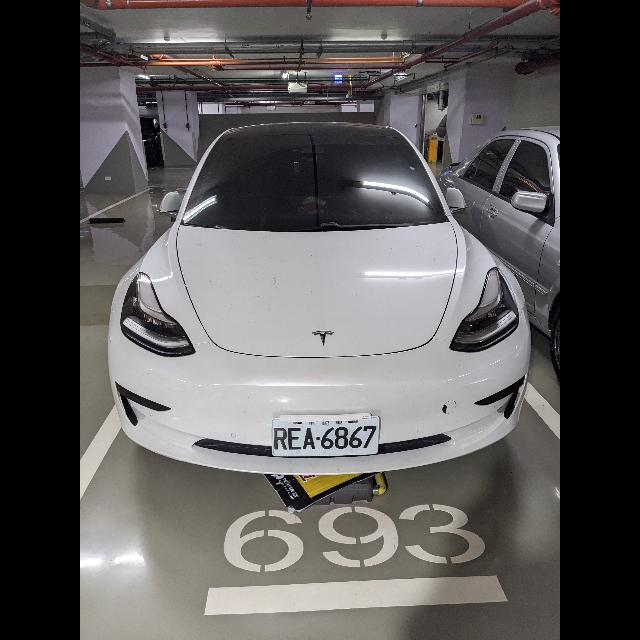plate: (271, 413, 380, 456)
